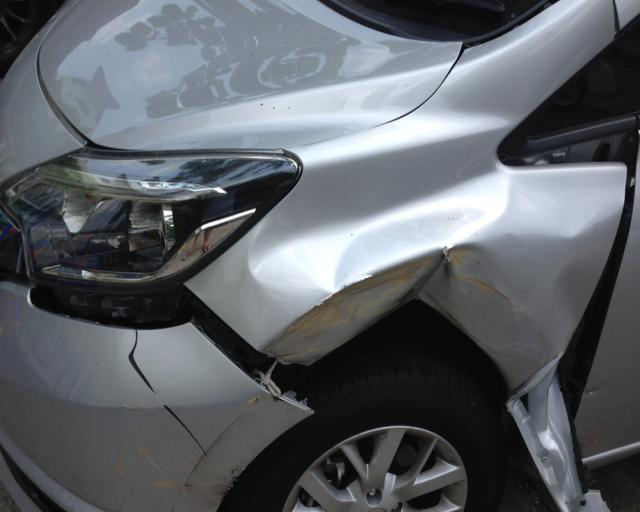dent: (250, 158, 623, 354)
scratch: (119, 328, 237, 502), (264, 254, 427, 363)
